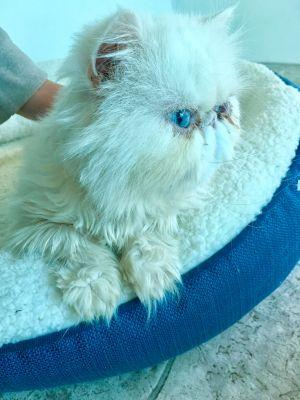persian: (68, 1, 254, 204)
